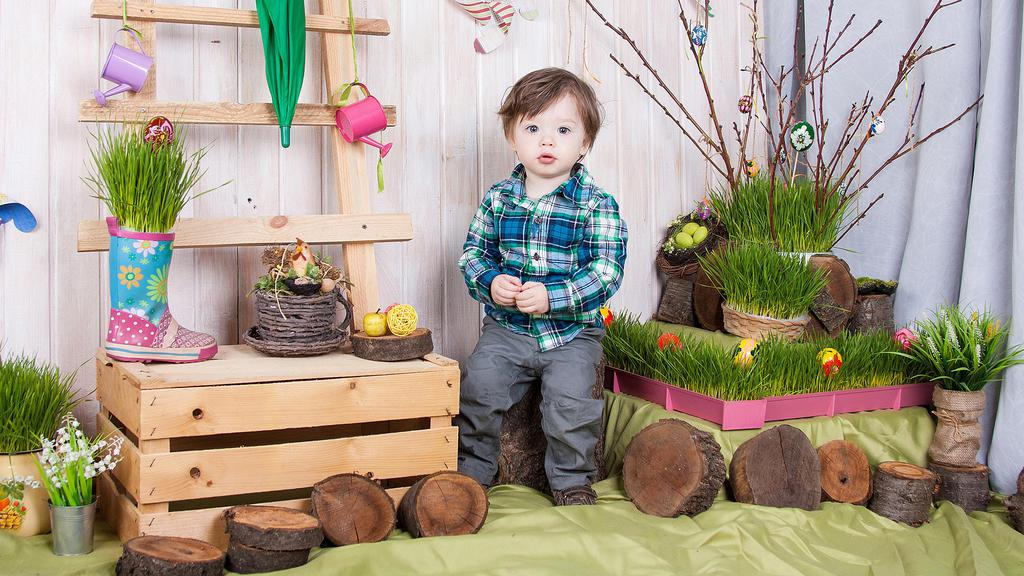child: (440, 64, 619, 508)
